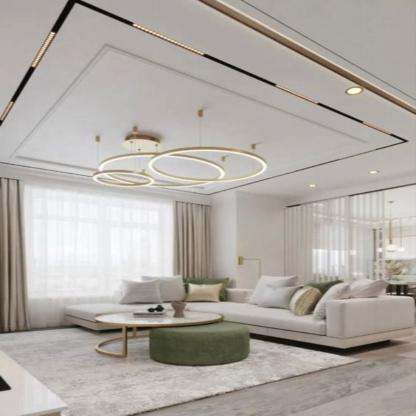Gypsum Board: (0, 0, 416, 209)
